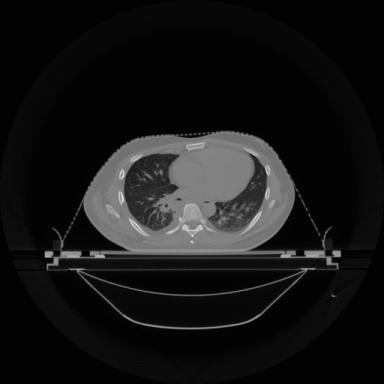body: (84, 131, 295, 252)
cord: (179, 203, 213, 243)
paru kanan: (125, 154, 178, 230)
paru kiri: (208, 156, 266, 231)
